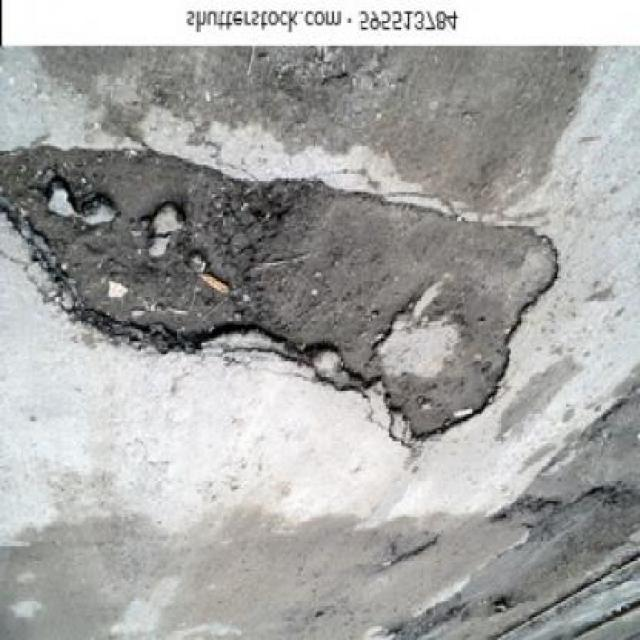Pothole: (0, 146, 556, 436)
